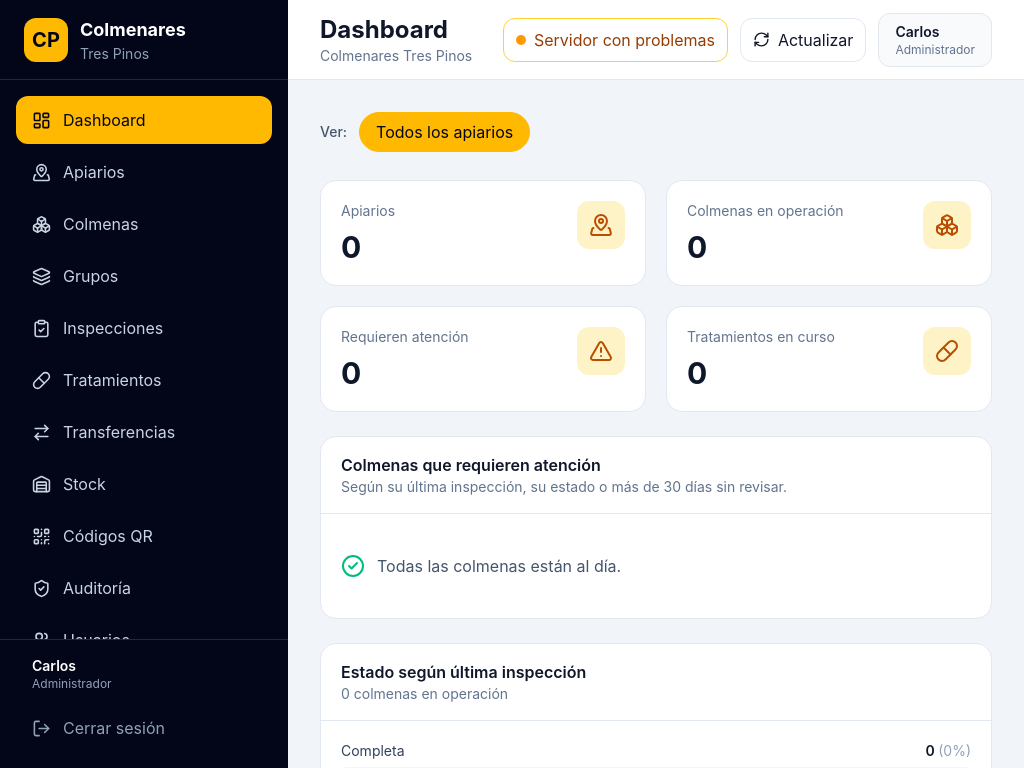
Test: al recargar sigue conectado y recupera el CSRF; si la sesión vence vuelve al login
Expected: the heading "Colmenas que requieren atención" is shown, x1=341 y1=455 x2=601 y2=475
Step 1. Click the button "Actualizar" → (803, 40), box x1=740 y1=18 x2=866 y2=62
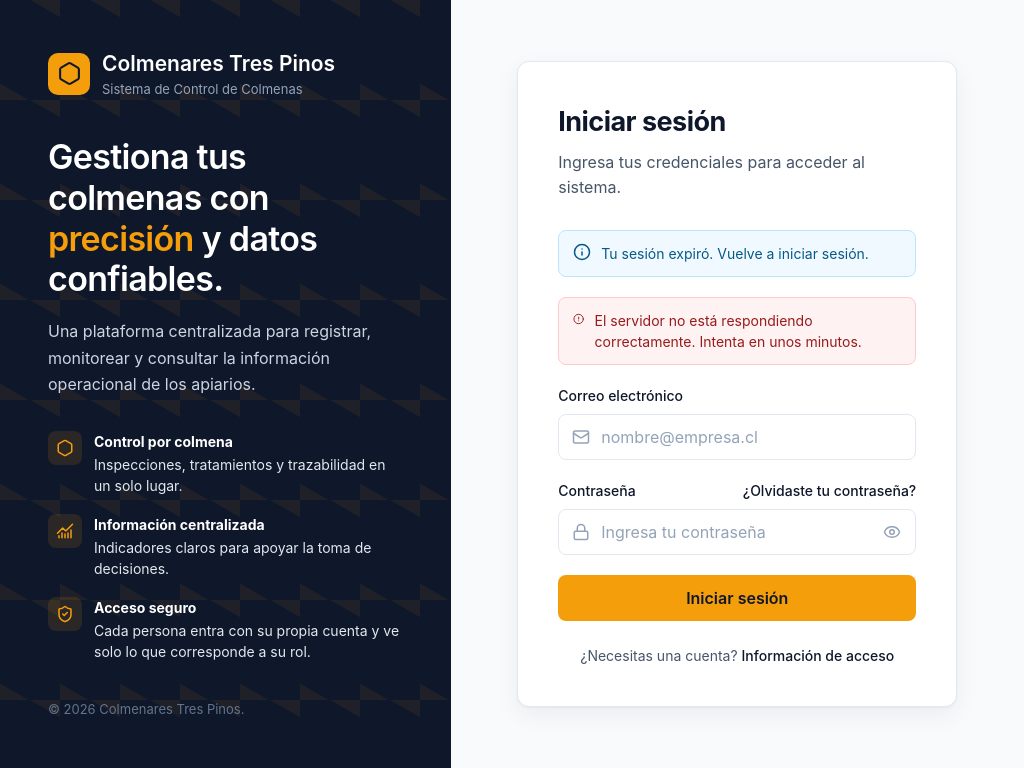
Result: the text "Tu sesión expiró. Vuelve a iniciar sesión." is shown at x1=601 y1=243 x2=869 y2=264
